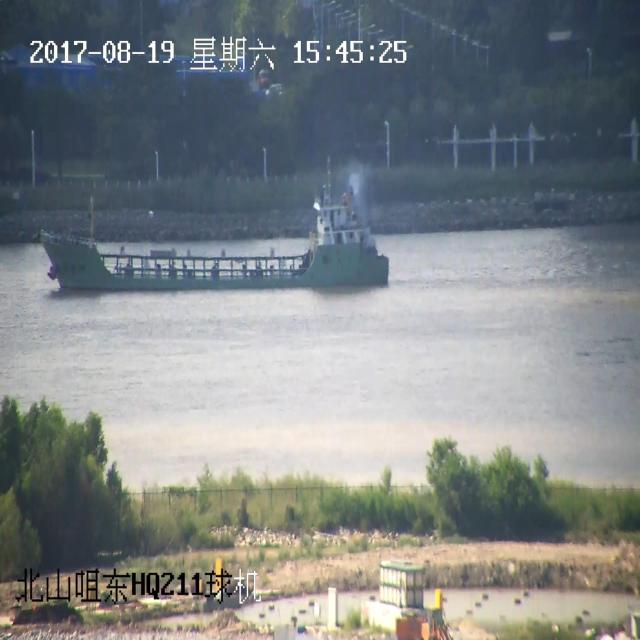houseboat: (28, 157, 400, 300)
